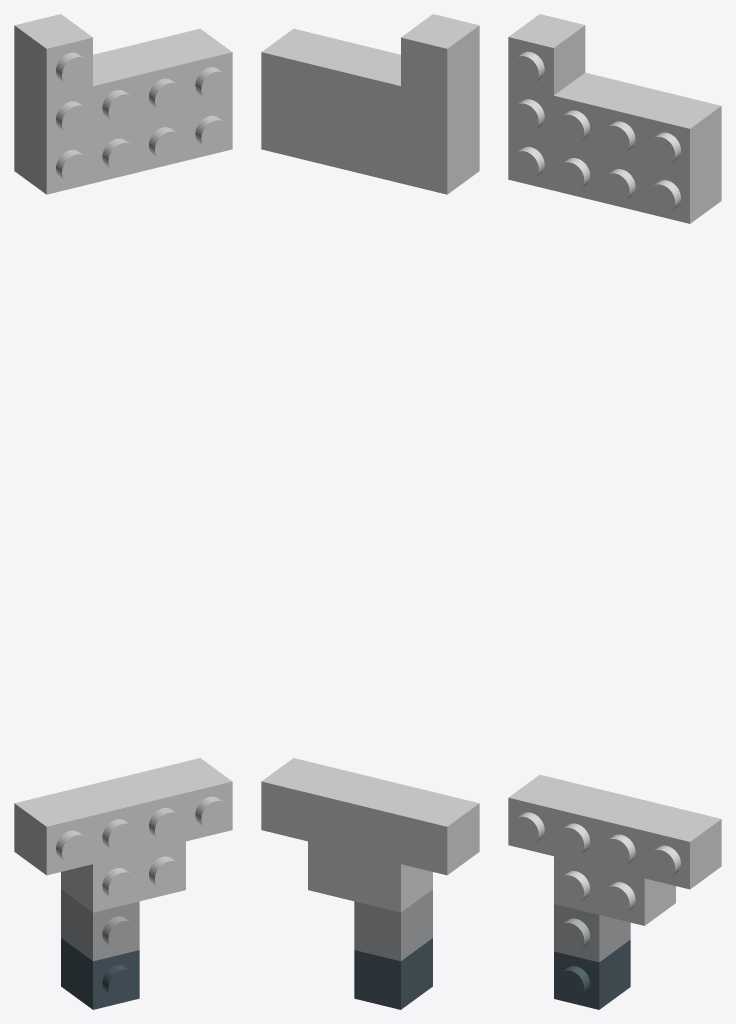
File: current.glb
3 views of the same model, side by side, from view 1: azimuth 30°, elevation 25°; view 2: azimuth 150°, elevation 25°; view 3: azimuth 330°, elevation 25° (orthographic). The views are drawn at different scales.
Parts seen in each view (by area): view 1: world; view 2: world; view 3: world.
Part boxes in pixels (x1,y1,x2,y2): world: (14, 14, 232, 1009); world: (261, 14, 479, 1009); world: (508, 14, 721, 1009).
Size of the model in its own units: 32 by 160 by 11.4.
